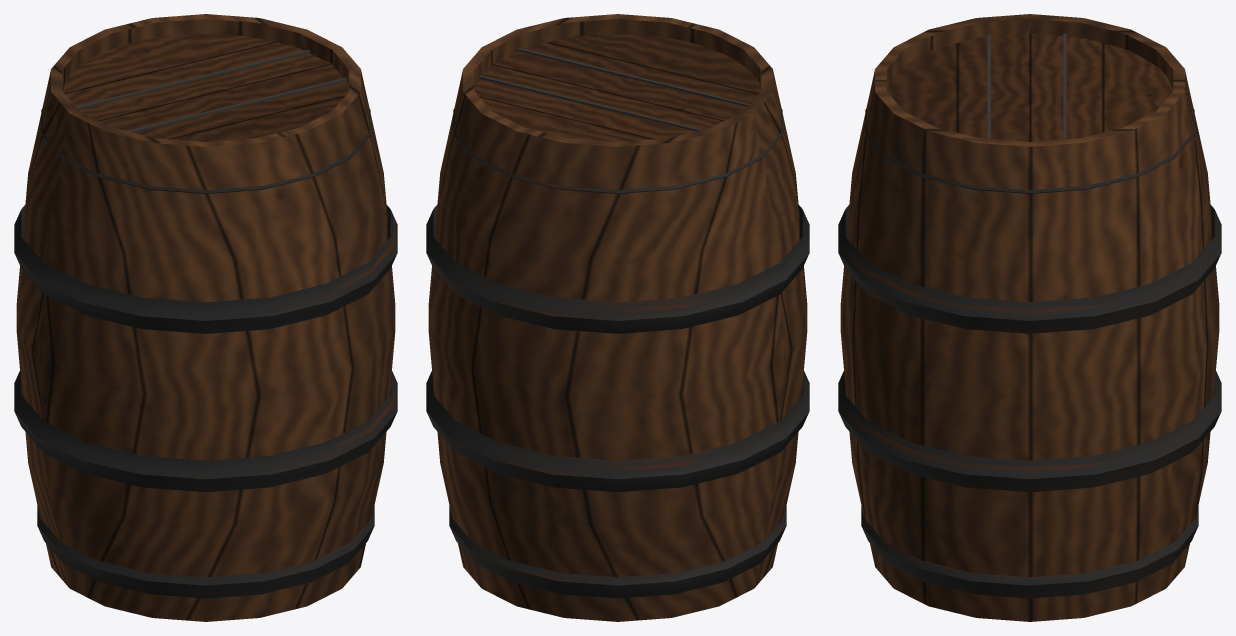
Rendered from barrel.glb.
3 views of the same model, side by side, from view 1: azimuth 30°, elevation 25°; view 2: azimuth 150°, elevation 25°; view 3: azimuth 270°, elevation 25° (orthographic).
Visible parts, largest first — view 1: barrel; view 2: barrel; view 3: barrel.
Part boxes in pixels (<box>): barrel: <box>14,14,397,621</box>; barrel: <box>426,14,809,621</box>; barrel: <box>838,14,1221,621</box>.
Bounding box in the file's own units: 0.668 × 0.9 × 0.6579.
Materials: 4 (3 with a texture image).
